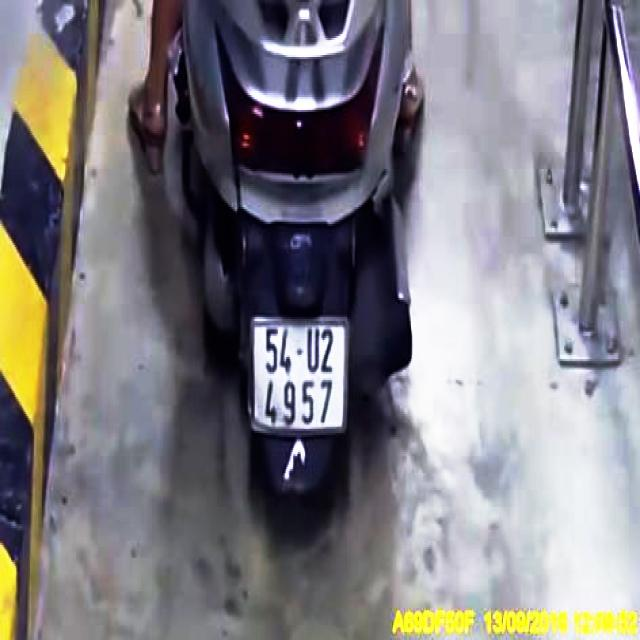license_plate: (252, 315, 352, 438)
